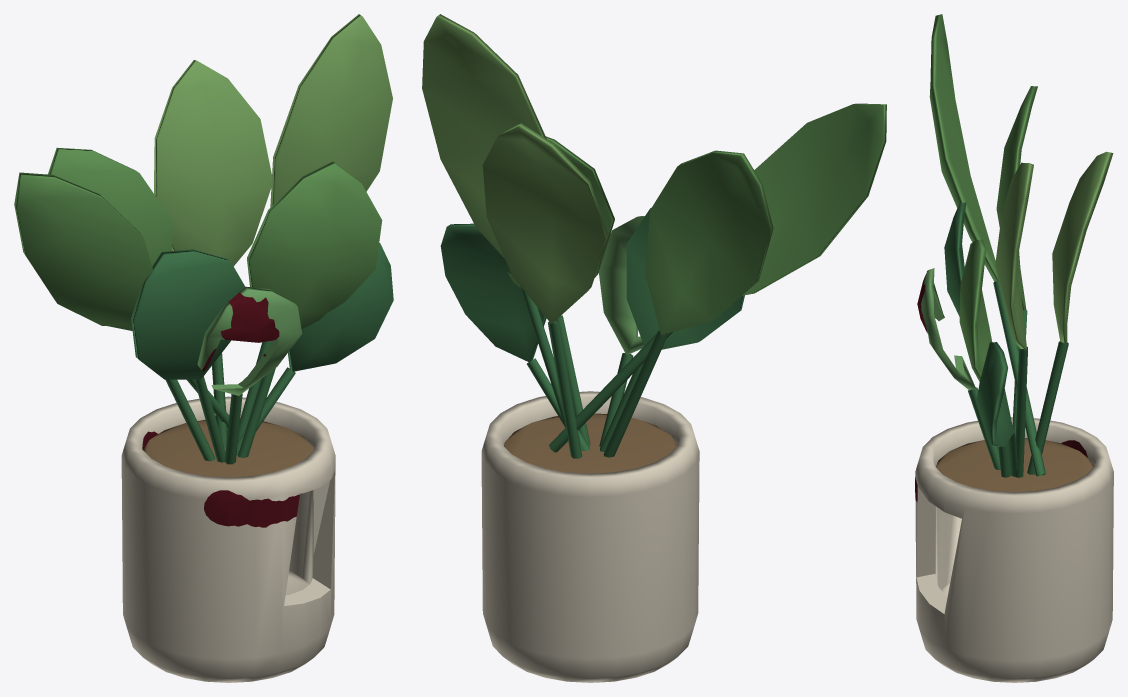
Rendered from floor_planter.glb.
3 renders of one model, left to right at view 1: azimuth 30°, elevation 25°; view 2: azimuth 150°, elevation 25°; view 3: azimuth 270°, elevation 25°, orthographic. The views are drawn at different scales.
Visible parts, largest first — view 1: OB_FloorPlanter_01_Static; view 2: OB_FloorPlanter_01_Static; view 3: OB_FloorPlanter_01_Static.
Boxes of the visible parts, box(x1,y1,x2,y2) form: OB_FloorPlanter_01_Static: box(14, 14, 393, 682); OB_FloorPlanter_01_Static: box(422, 14, 886, 682); OB_FloorPlanter_01_Static: box(915, 14, 1113, 682).
Bounding box in the file's own units: 1.12 × 1.52 × 0.5005.
5 materials, 1 textured.
